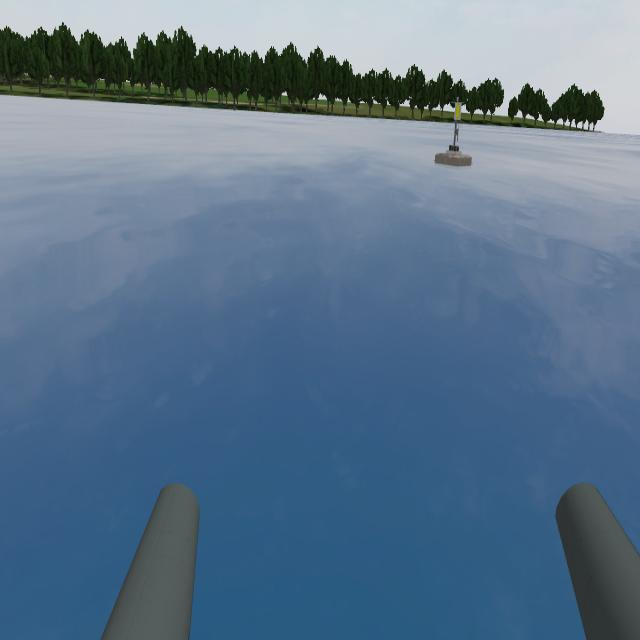yellow_pole: (454, 97, 462, 123)
